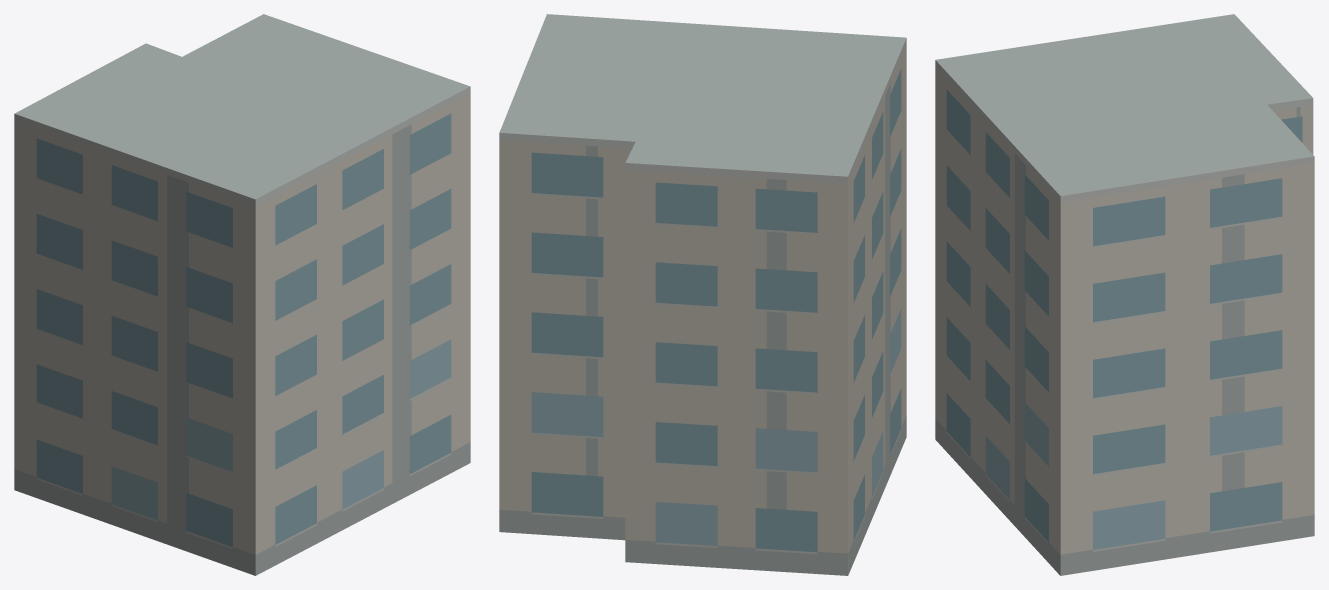
File: survey-upis-32864795.glb
3 renders of one model, left to right at view 1: azimuth 30°, elevation 25°; view 2: azimuth 150°, elevation 25°; view 3: azimuth 270°, elevation 25°, orthographic. The views are drawn at different scales.
Parts seen in each view (by area): view 1: survey-upis-32864795.tmp; view 2: survey-upis-32864795.tmp; view 3: survey-upis-32864795.tmp.
Part boxes in pixels (left/top/right/bottom): survey-upis-32864795.tmp: left=14, top=14, right=470, bottom=575; survey-upis-32864795.tmp: left=499, top=14, right=906, bottom=575; survey-upis-32864795.tmp: left=935, top=14, right=1314, bottom=575.
Bounding box in the file's own units: 13.95 × 13.55 × 12.27.
